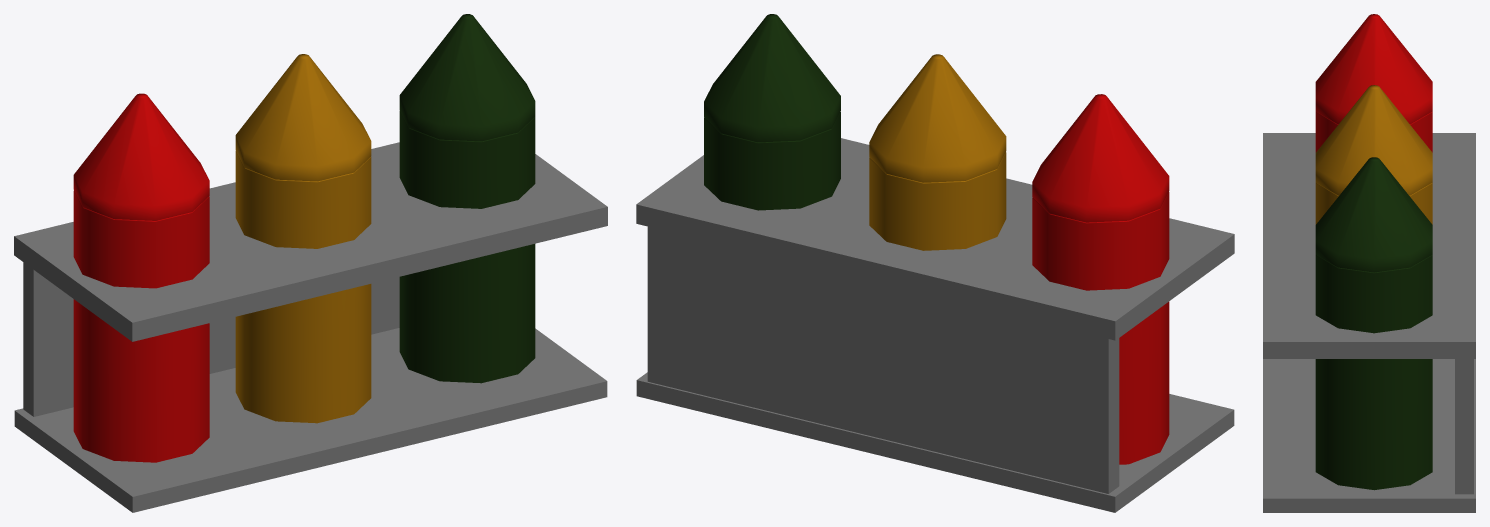
The model's file is Hotdog Sauces.fbx.
The picture shows the model from 3 angles, left to right: view 1: azimuth 30°, elevation 25°; view 2: azimuth 150°, elevation 25°; view 3: azimuth 270°, elevation 25°; orthographic projection. The views are drawn at different scales.
Visible parts, largest first — view 1: pasted__pCylinder118; view 2: pasted__pCylinder118; view 3: pasted__pCylinder118.
Part boxes in pixels (x1,y1,x2,y2): pasted__pCylinder118: [14, 14, 607, 512]; pasted__pCylinder118: [636, 14, 1234, 512]; pasted__pCylinder118: [1263, 14, 1475, 512].
Size of the model in its own units: 0.6031 by 0.4297 by 0.2599.
